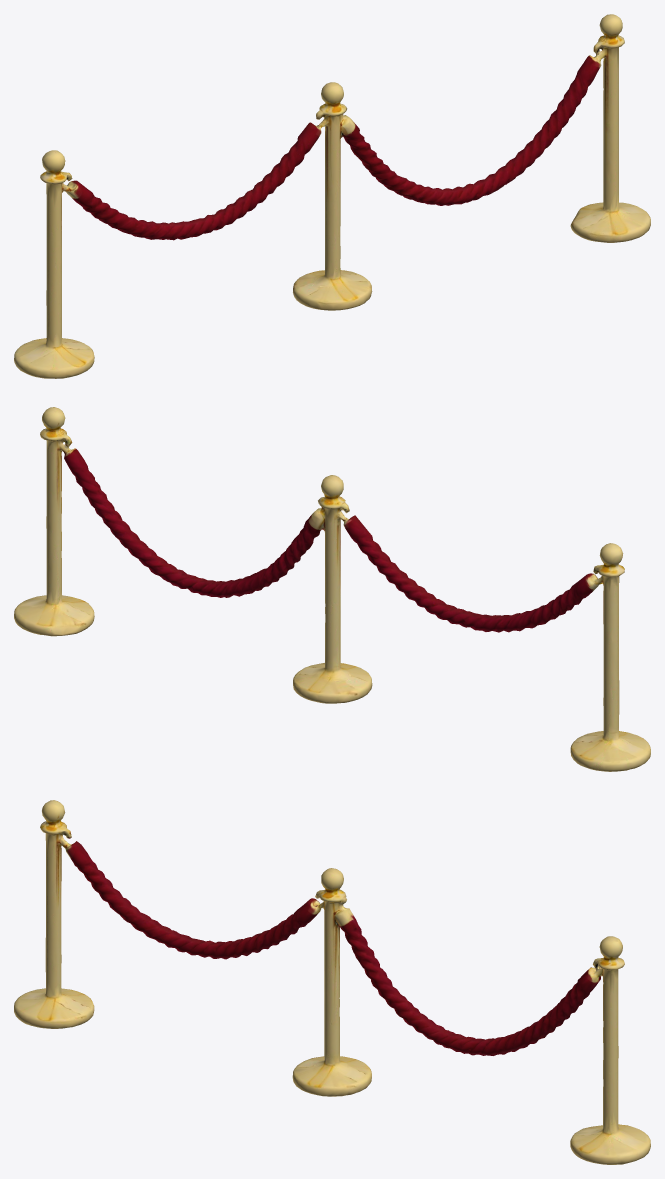
The model's file is red_velvet_rope_barriers.glb.
3 renders of one model, top to bottom at view 1: azimuth 30°, elevation 25°; view 2: azimuth 150°, elevation 25°; view 3: azimuth 330°, elevation 25°, orthographic.
Visible parts, largest first — view 1: Object_4; view 2: Object_4; view 3: Object_4.
Part boxes in pixels (bbox=[...]): Object_4: bbox=[14, 14, 650, 378]; Object_4: bbox=[14, 407, 650, 771]; Object_4: bbox=[14, 800, 650, 1164].
Size of the model in its own units: 1.92 by 0.6207 by 0.2112.
Materials: 1 (1 with a texture image).
